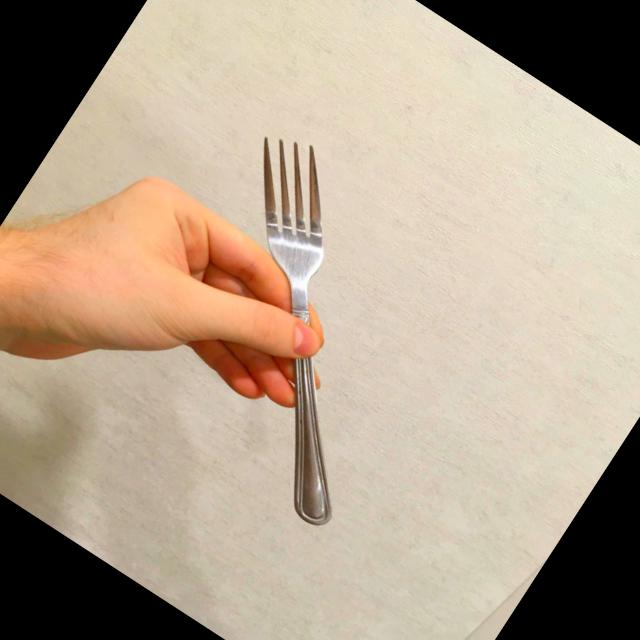fork: (99, 119, 496, 533)
